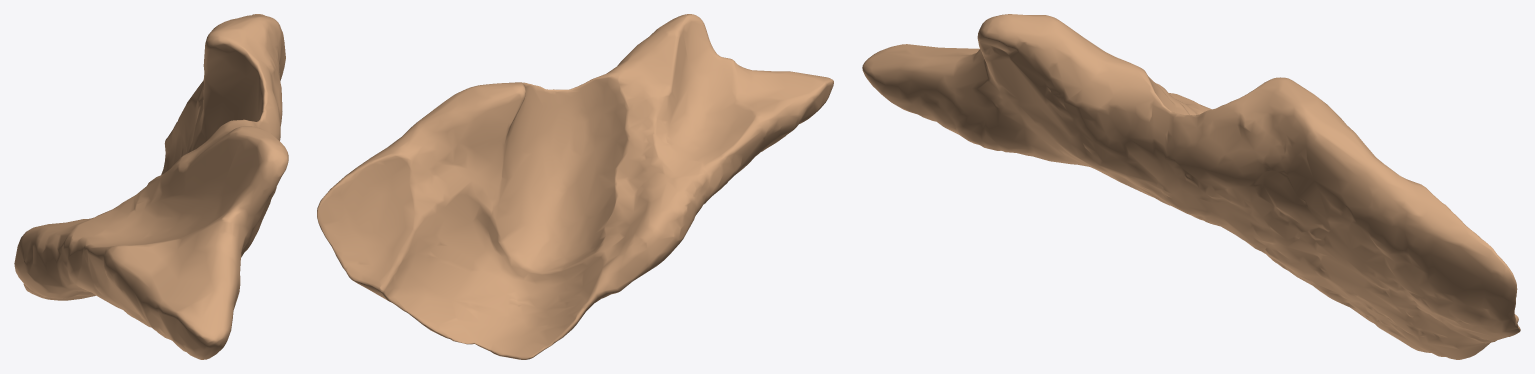
The picture shows the model from 3 angles, left to right: view 1: azimuth 30°, elevation 25°; view 2: azimuth 150°, elevation 25°; view 3: azimuth 270°, elevation 25°; orthographic projection. The views are drawn at different scales.
Visible parts, largest first — view 1: 胸腺左叶; view 2: 胸腺左叶; view 3: 胸腺左叶.
Part boxes in pixels (x1,y1,x2,y2): 胸腺左叶: [14, 14, 288, 359]; 胸腺左叶: [317, 14, 833, 359]; 胸腺左叶: [862, 14, 1520, 359].
Bounding box in the file's own units: 0.0558 × 0.0431 × 0.0816.
